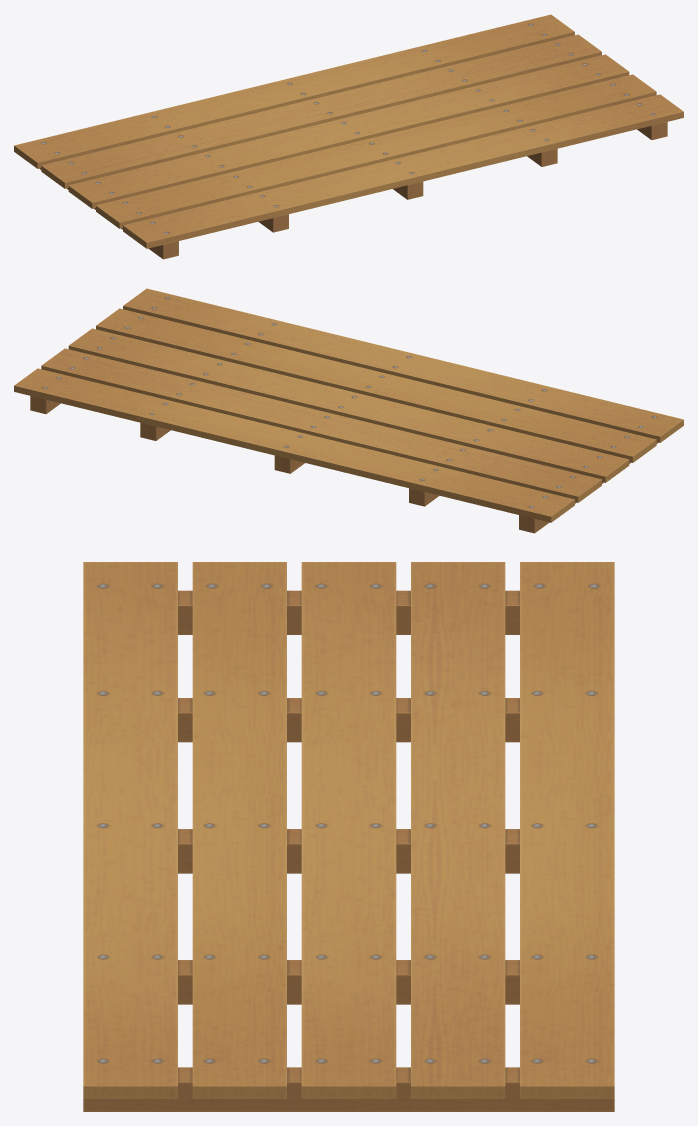
File: set_duckboard.fbx
3 renders of one model, top to bottom at view 1: azimuth 30°, elevation 25°; view 2: azimuth 150°, elevation 25°; view 3: azimuth 270°, elevation 25°, orthographic. The views are drawn at different scales.
Parts seen in each view (by area): view 1: set_duckboard; view 2: set_duckboard; view 3: set_duckboard.
Boxes of the visible parts, left/top/right/bottom form: set_duckboard: left=14, top=14, right=683, bottom=259; set_duckboard: left=14, top=288, right=683, bottom=533; set_duckboard: left=83, top=562, right=614, bottom=1111.
Size of the model in its own units: 136 by 5.04 by 58.4.
